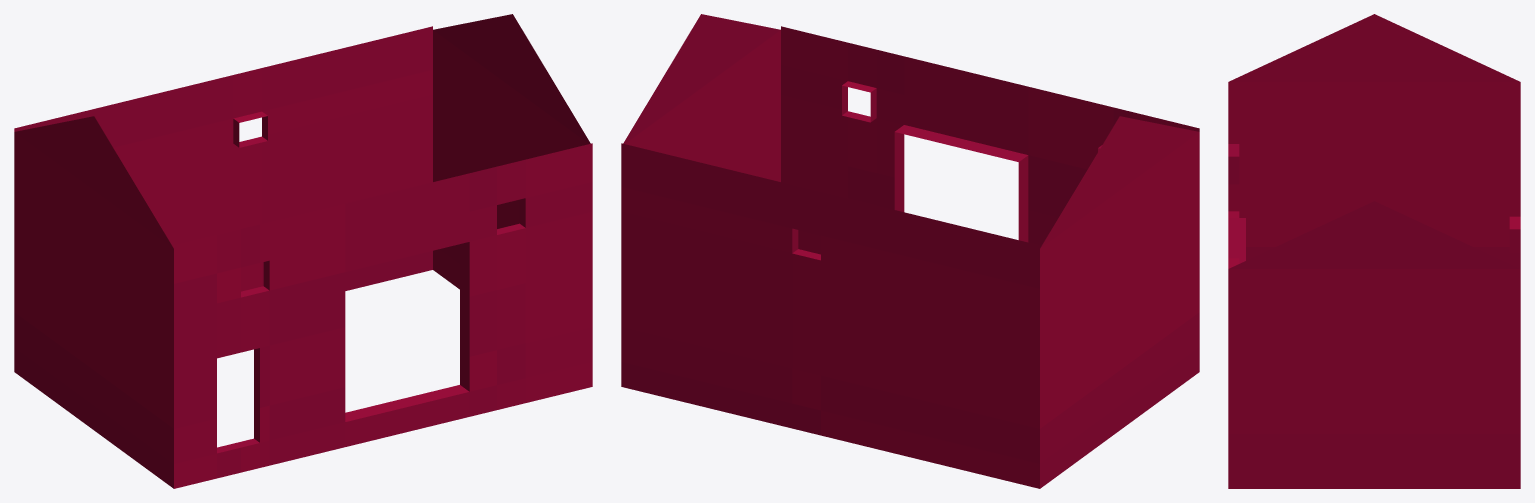
Rendered from SM_Bld_215_Masonry.glb.
3 views of the same model, side by side, from view 1: azimuth 30°, elevation 25°; view 2: azimuth 150°, elevation 25°; view 3: azimuth 270°, elevation 25° (orthographic). The views are drawn at different scales.
Visible parts, largest first — view 1: SM_Bld_215_Masonry; view 2: SM_Bld_215_Masonry; view 3: SM_Bld_215_Masonry.
Boxes of the visible parts, bbox=[...] form: SM_Bld_215_Masonry: bbox=[14, 14, 592, 488]; SM_Bld_215_Masonry: bbox=[621, 14, 1199, 488]; SM_Bld_215_Masonry: bbox=[1228, 14, 1520, 488].
Bounding box in the file's own units: 8.76 × 6.29 × 5.79.
